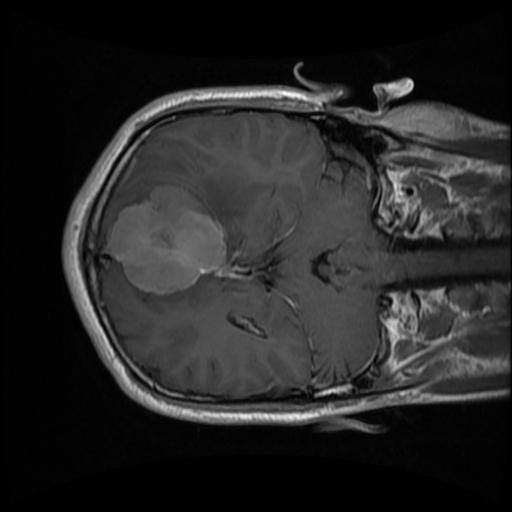meningioma: (105, 186, 227, 295)
